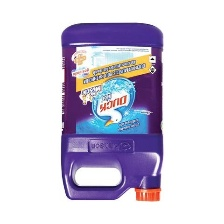cleaning_solution: (56, 18, 170, 207)
